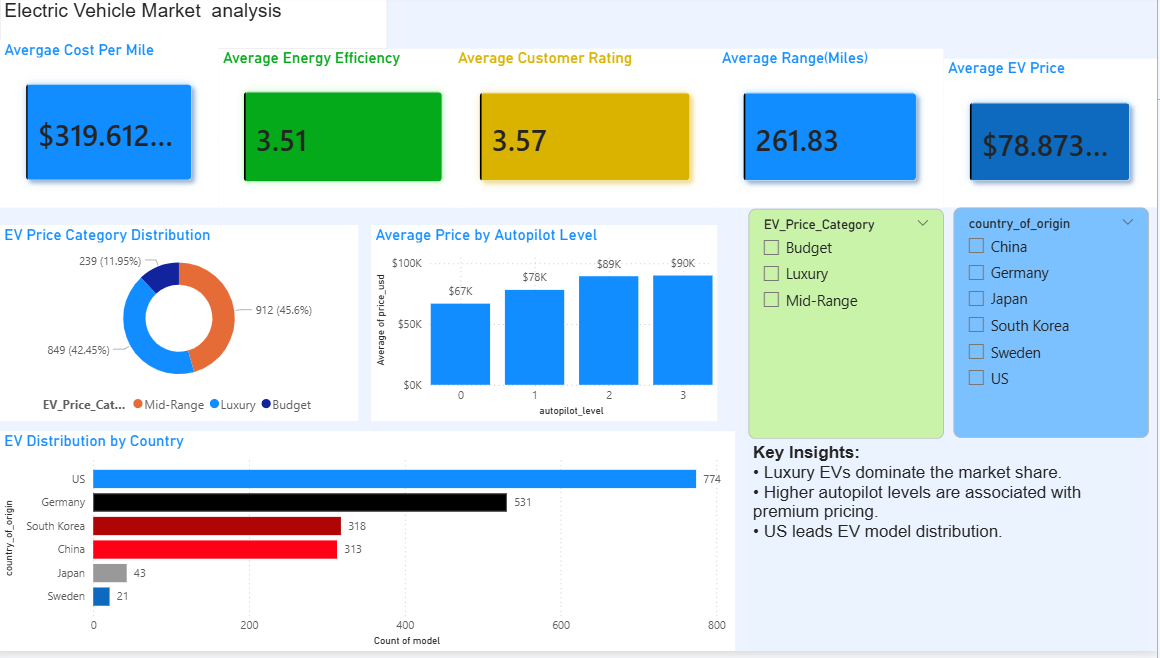

What the dashboard file says about the page in this screenshot:
{"tool":"powerbi","page":{"name":"Executive Overview","canvas":[1280,720],"ordinal":0},"visuals":[{"type":"textbox","box":[9.6,0,425.4,59],"z":0},{"type":"cardVisual","title":"Avergae Cost Per Mile","fields":{"Data":["Avg(process_data.Cost_per_mile)"]},"box":[9.6,49.4,240.1,183.9],"z":1000},{"type":"cardVisual","title":" Average Energy Efficiency","fields":{"Data":["Avg(process_data.Miles_per_kWh)"]},"box":[249.7,59,274.4,174.3],"z":2000},{"type":"cardVisual","title":"Average Customer Rating","fields":{"Data":["Avg(process_data.customer_rating)"]},"box":[507.7,59,289.5,174.3],"z":3000},{"type":"cardVisual","title":"Average Range(Miles)","fields":{"Data":["Avg(process_data.range_miles)"]},"box":[797.3,59,248.4,174.3],"z":4000},{"type":"cardVisual","title":"Average EV Price","fields":{"Data":["Avg(process_data.price_usd)"]},"box":[1045.6,70,234.6,163.3],"z":5000},{"type":"donutChart","title":"EV Price Category Distribution","fields":{"Category":["process_data.EV_Price_Category"],"Y":["CountNonNull(process_data.model)"]},"box":[9.6,252.5,393.8,215.4],"z":6000},{"type":"clusteredColumnChart","title":"Average Price by Autopilot Level","fields":{"Category":["process_data.autopilot_level"],"Y":["Avg(process_data.price_usd)"]},"box":[417.2,252.5,380.1,215.4],"z":7000},{"type":"clusteredBarChart","title":"EV Distribution by Country","fields":{"Category":["process_data.country_of_origin"],"Y":["CountNonNull(process_data.model)"]},"box":[9.6,478.9,806.9,241.5],"z":8000},{"type":"slicer","fields":{"Values":["process_data.EV_Price_Category"]},"box":[831.6,234.6,214.1,252.5],"z":9000},{"type":"slicer","fields":{"Values":["process_data.country_of_origin"]},"box":[1056.6,233.3,214.1,252.5],"z":10000},{"type":"textbox","box":[831.6,487.1,439.1,233.3],"z":11000}]}

Visuals, with their boxes in screenshot pixels (x1, y1, x2, y2), scaled from the page's 1280x720 canvas onto the 1160x658 screenshot:
textbox: (9,0,394,54)
"Avergae Cost Per Mile" cardVisual: (9,45,226,213)
" Average Energy Efficiency" cardVisual: (226,54,475,213)
"Average Customer Rating" cardVisual: (460,54,722,213)
"Average Range(Miles)" cardVisual: (723,54,948,213)
"Average EV Price" cardVisual: (948,64,1159,213)
"EV Price Category Distribution" donutChart: (9,231,366,428)
"Average Price by Autopilot Level" clusteredColumnChart: (378,231,723,428)
"EV Distribution by Country" clusteredBarChart: (9,438,740,657)
slicer - process_data.EV_Price_Category: (754,214,948,445)
slicer - process_data.country_of_origin: (958,213,1152,444)
textbox: (754,445,1152,657)
